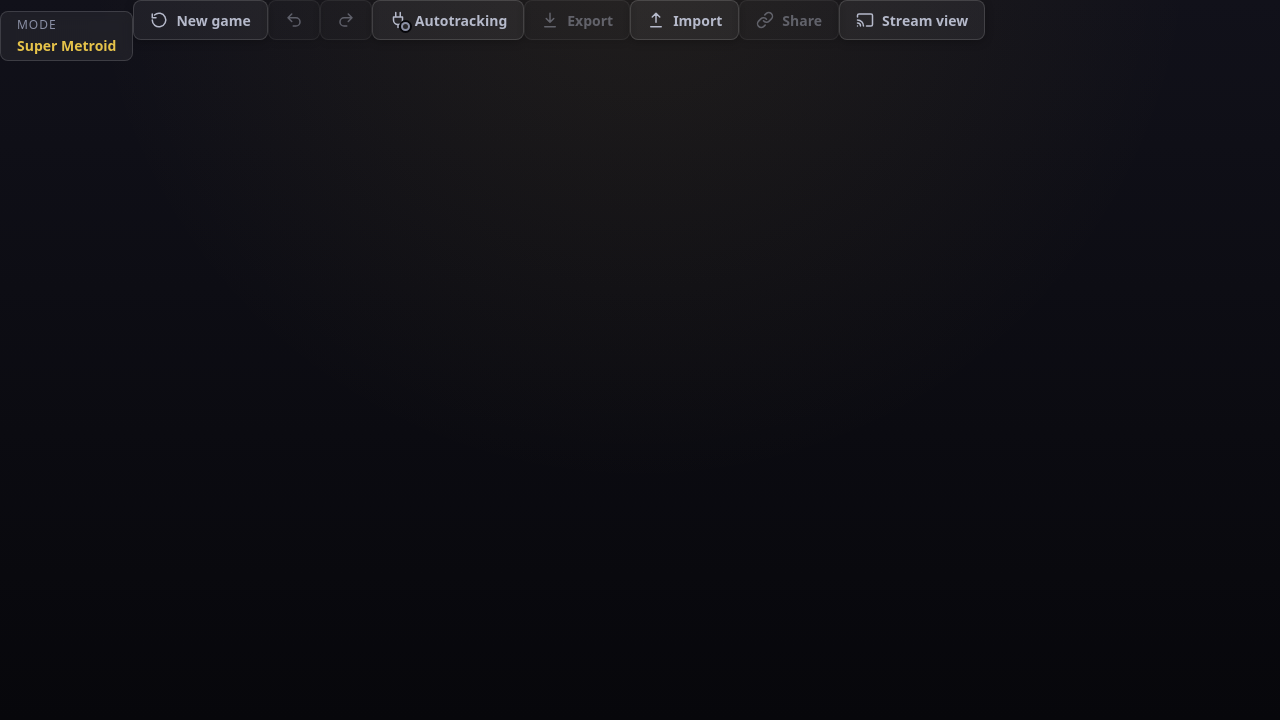
Test: the Super Metroid toolbar › gives the stream view's address, and copies it
Click the button with test id "sm-stream-view": coordinates (912, 20) [839,0,985,40]
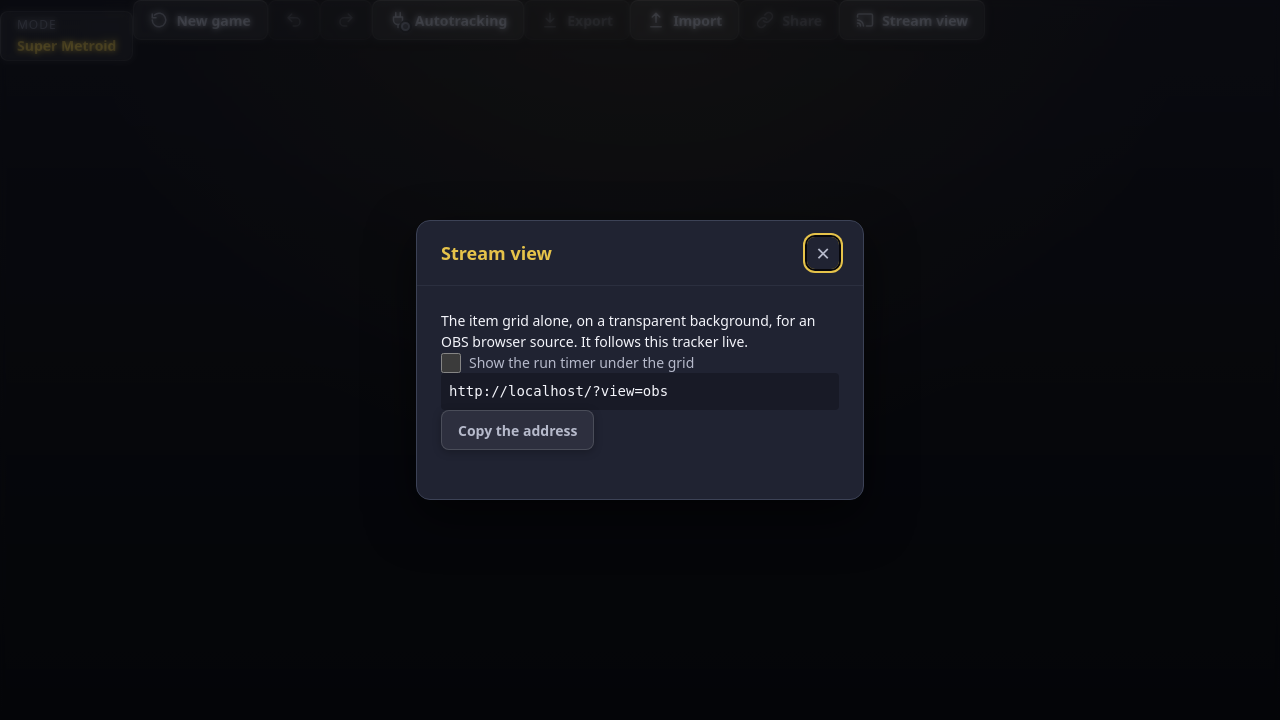
Click the button "Copy the address": coordinates (518, 430) [441,410,594,450]
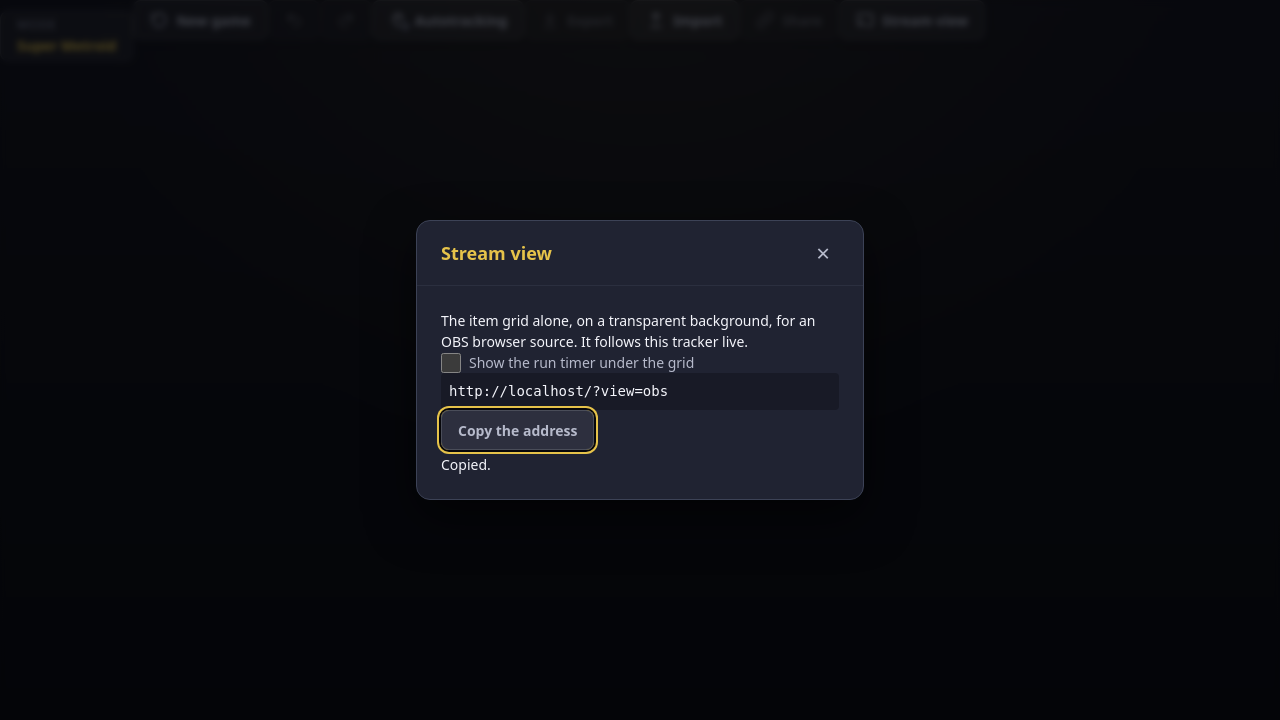
Expected: the text "Copied." is shown, [441,455,491,474]
